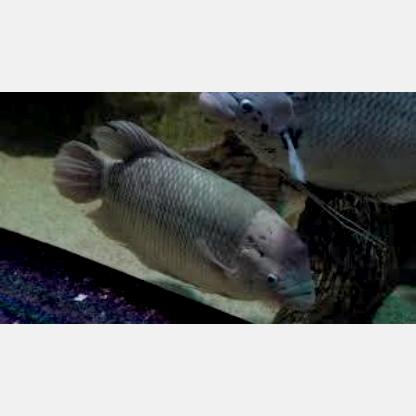gurame: (55, 124, 318, 308)
